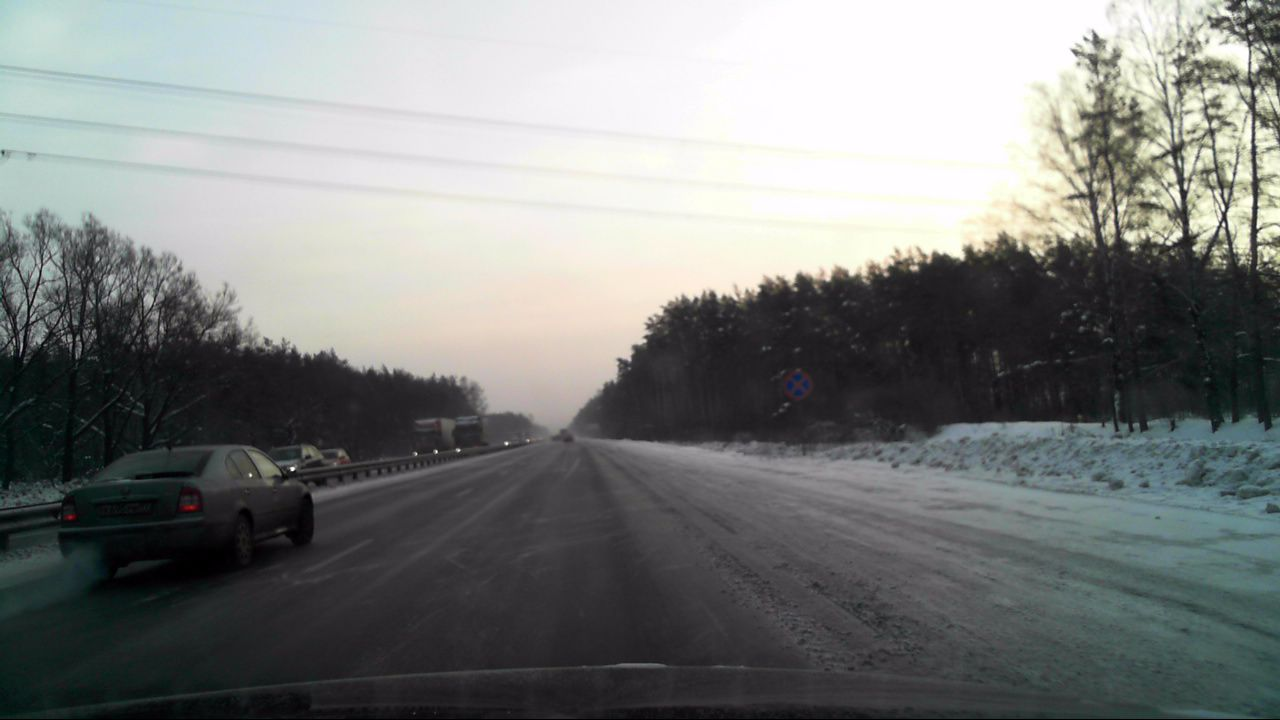No Parking: (781, 367, 814, 401)
